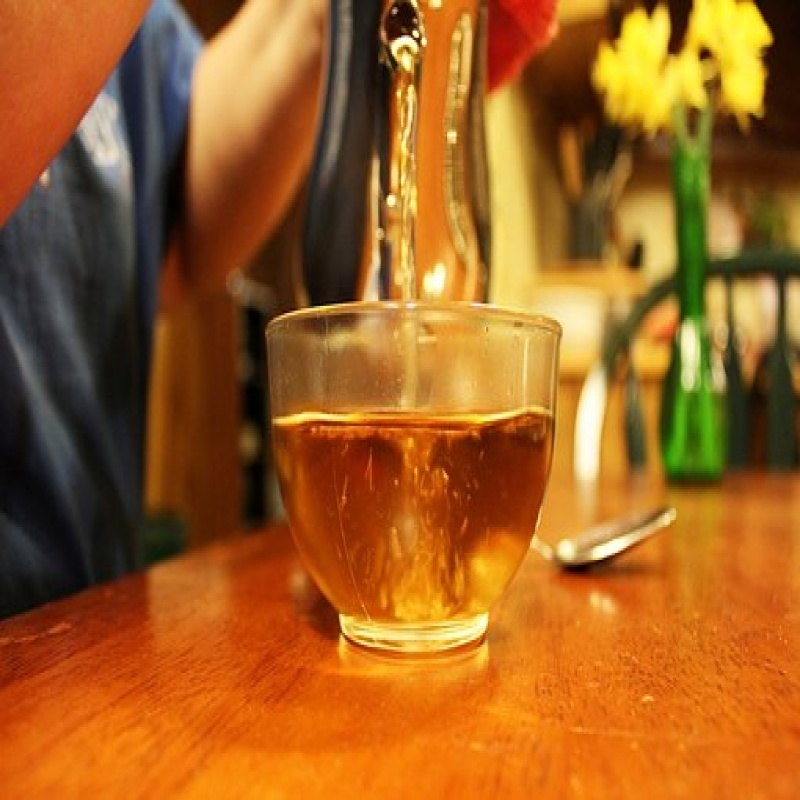whiskey: (259, 302, 578, 659)
